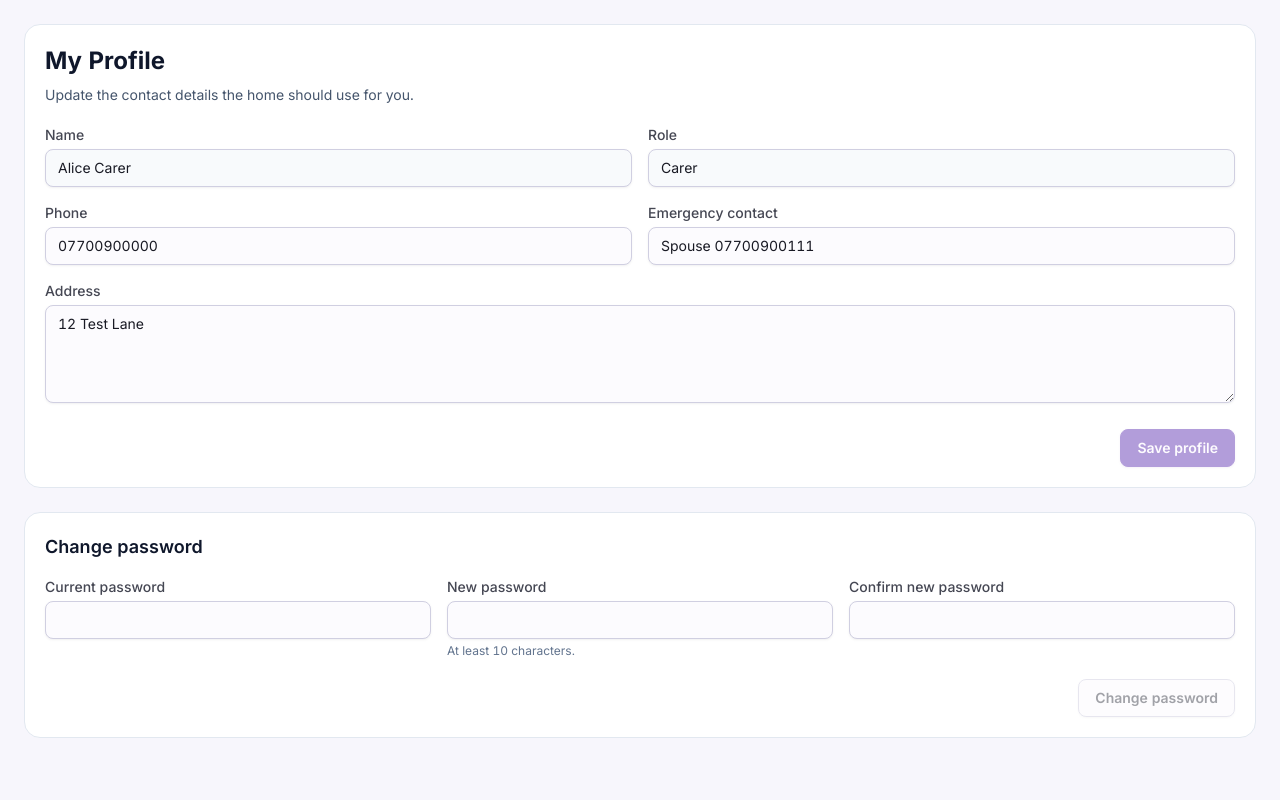
Test case: MyProfile › changes password and clears password fields after success
This screenshot has width=1280, height=800.
Expected: the button "Change password" is shown, x1=1078 y1=679 x2=1235 y2=717
Type "old-password" into the password field labelled "Current password".
click(238, 620); type("old-password")  # box x1=45 y1=601 x2=431 y2=639
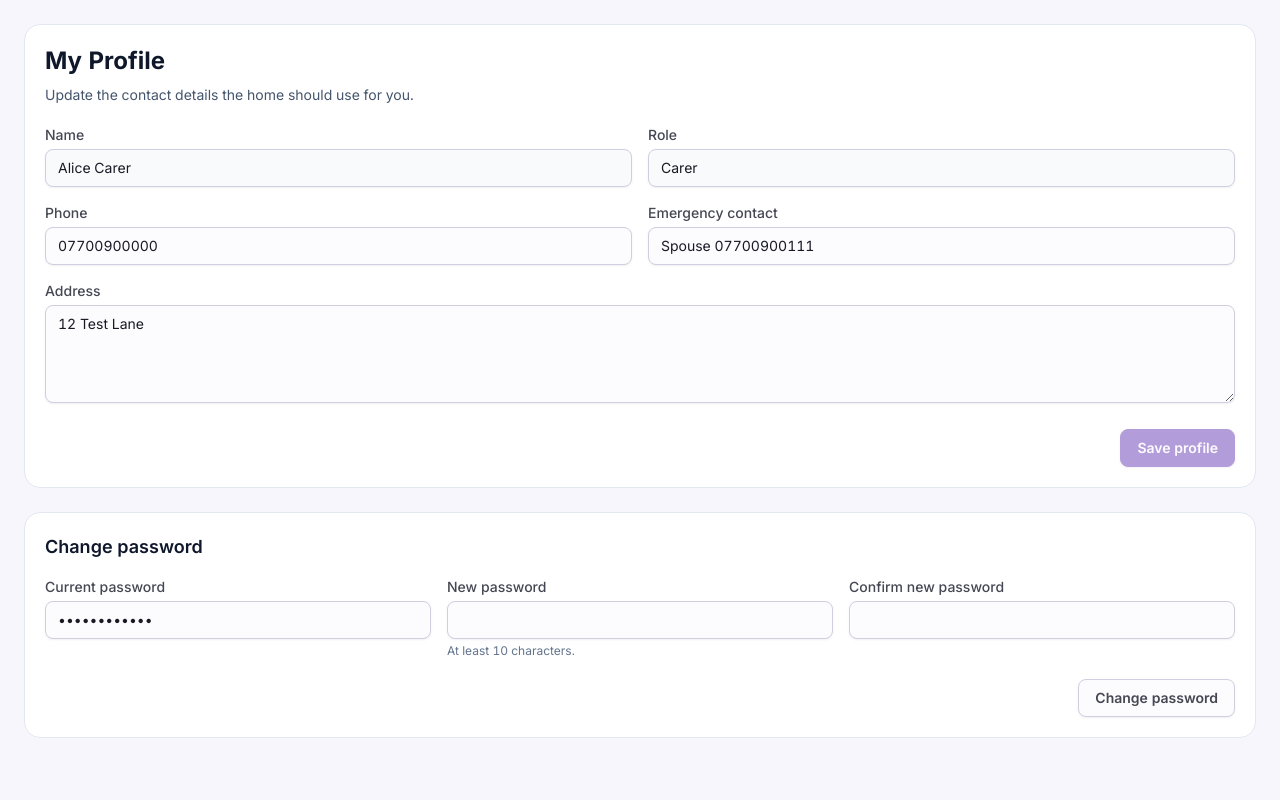
Type "new-password-1" into the password field labelled "New password".
click(640, 620); type("new-password-1")  # box x1=447 y1=601 x2=833 y2=639
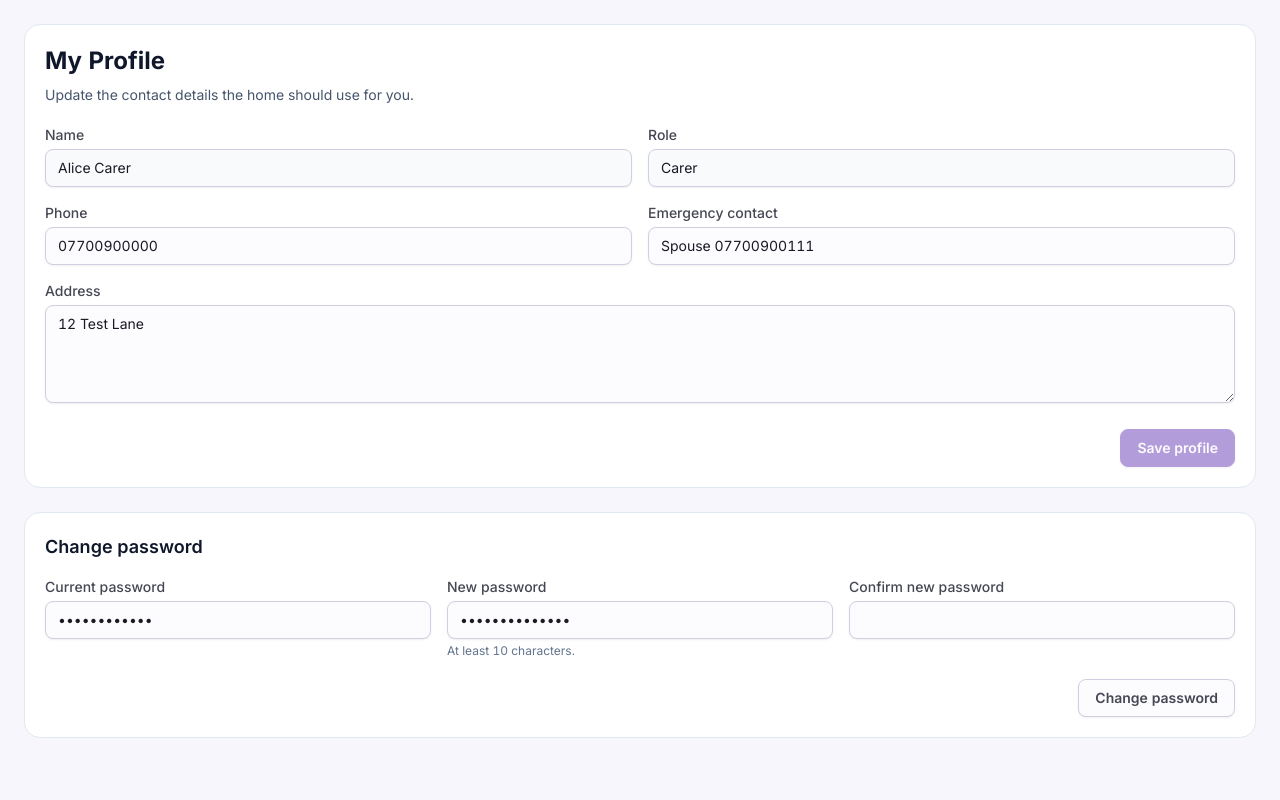
Type "new-password-1" into the password field labelled "Confirm new password".
click(1042, 620); type("new-password-1")  # box x1=849 y1=601 x2=1235 y2=639
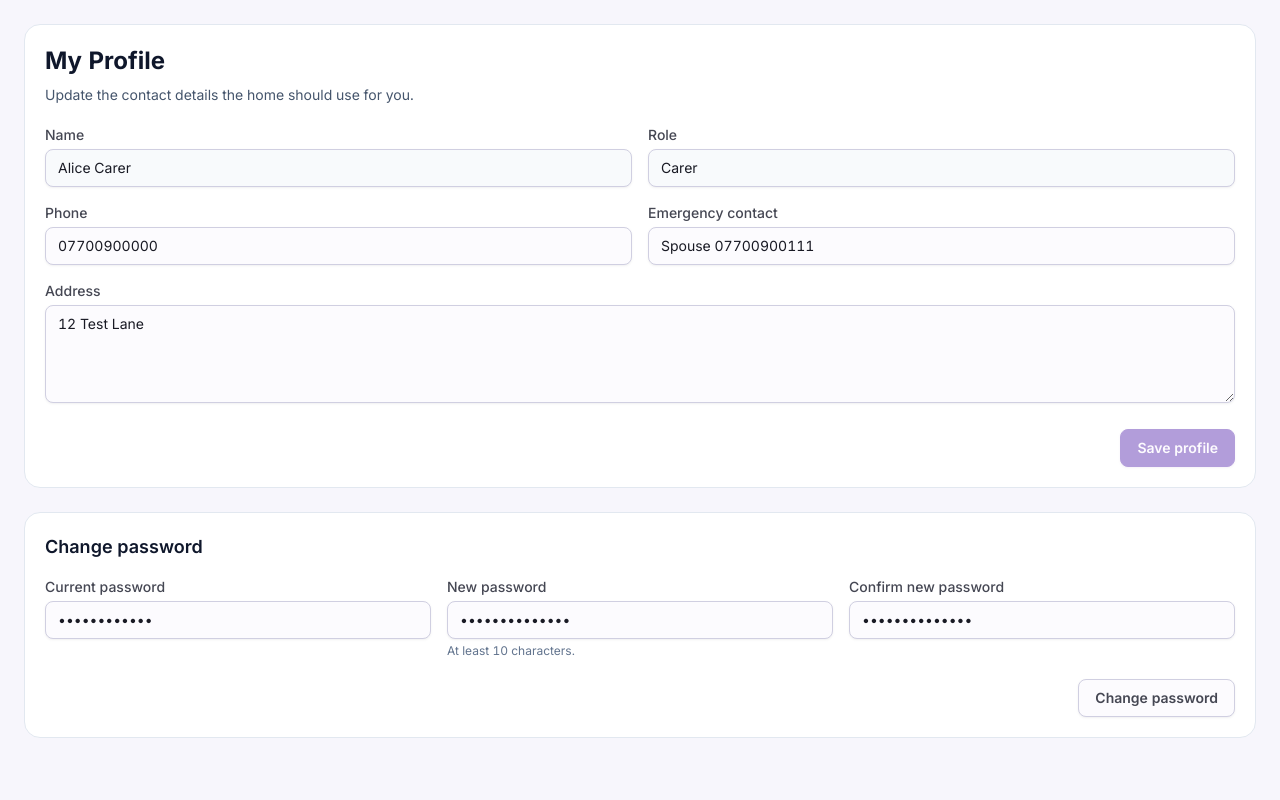
Click the button "Change password".
click(1157, 698)  # box x1=1078 y1=679 x2=1235 y2=717
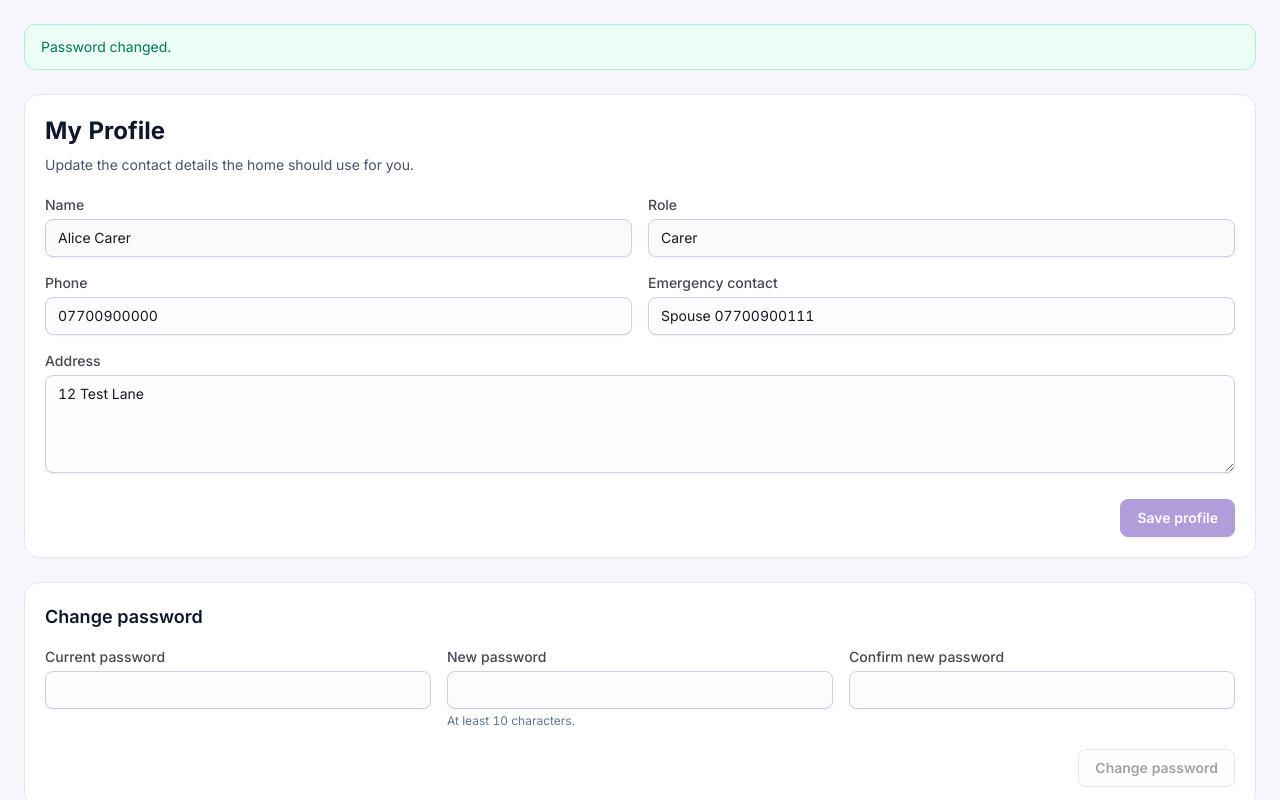
Expected: the password field labelled "Current password" is empty, x1=45 y1=671 x2=431 y2=709
Expected: the text "Password changed." is shown, x1=24 y1=24 x2=1256 y2=70
Expected: the password field labelled "Confirm new password" is empty, x1=849 y1=671 x2=1235 y2=709
